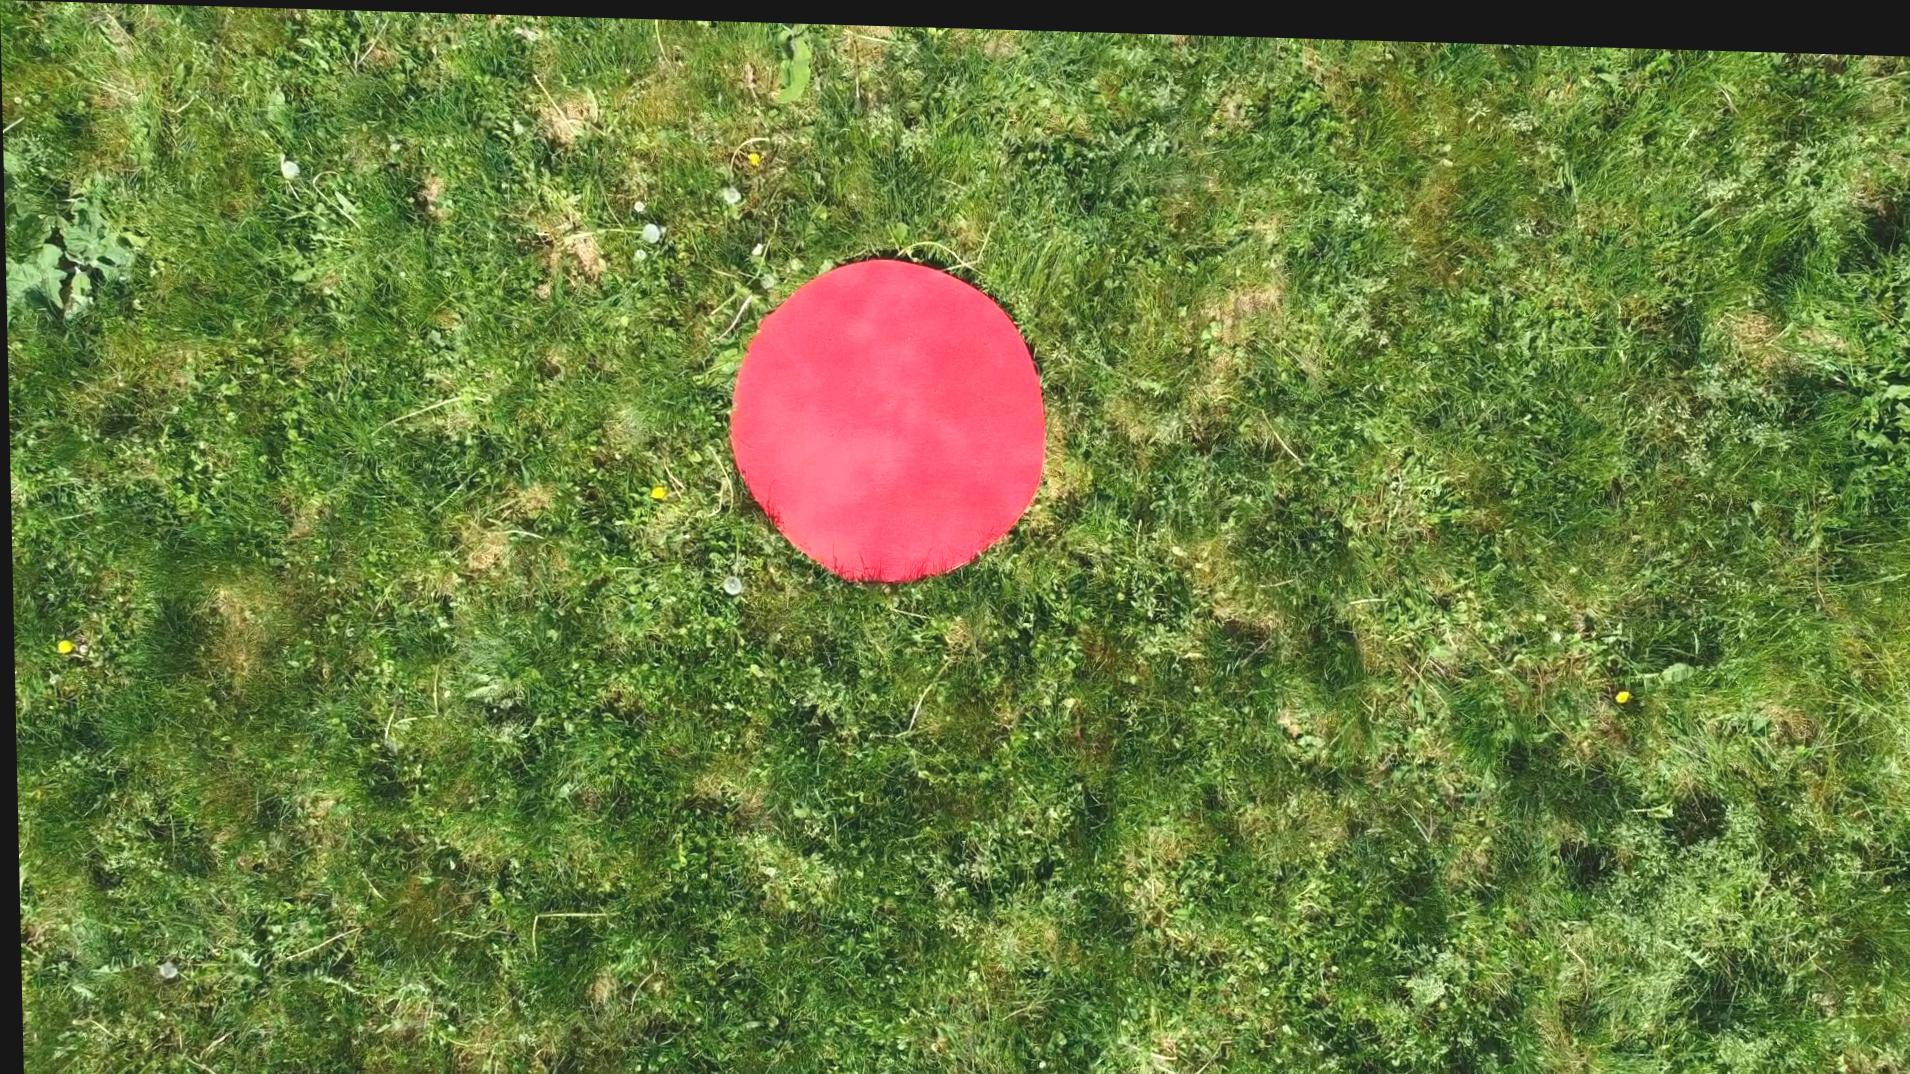Red: (715, 243, 1067, 593)
